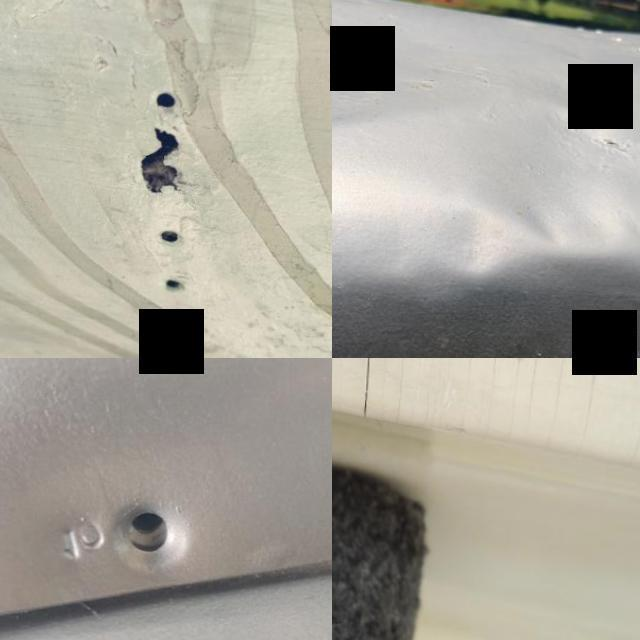Crack: (116, 107, 220, 220), (412, 358, 453, 427), (458, 358, 476, 429), (508, 358, 524, 435), (485, 358, 501, 430), (362, 358, 376, 418), (395, 358, 407, 424)
Dent: (422, 35, 640, 318)
Missing_Fastener: (72, 454, 225, 613)
